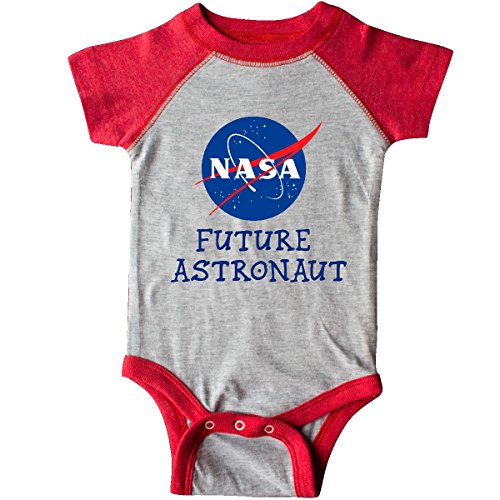NASA: (194, 115, 325, 222)
